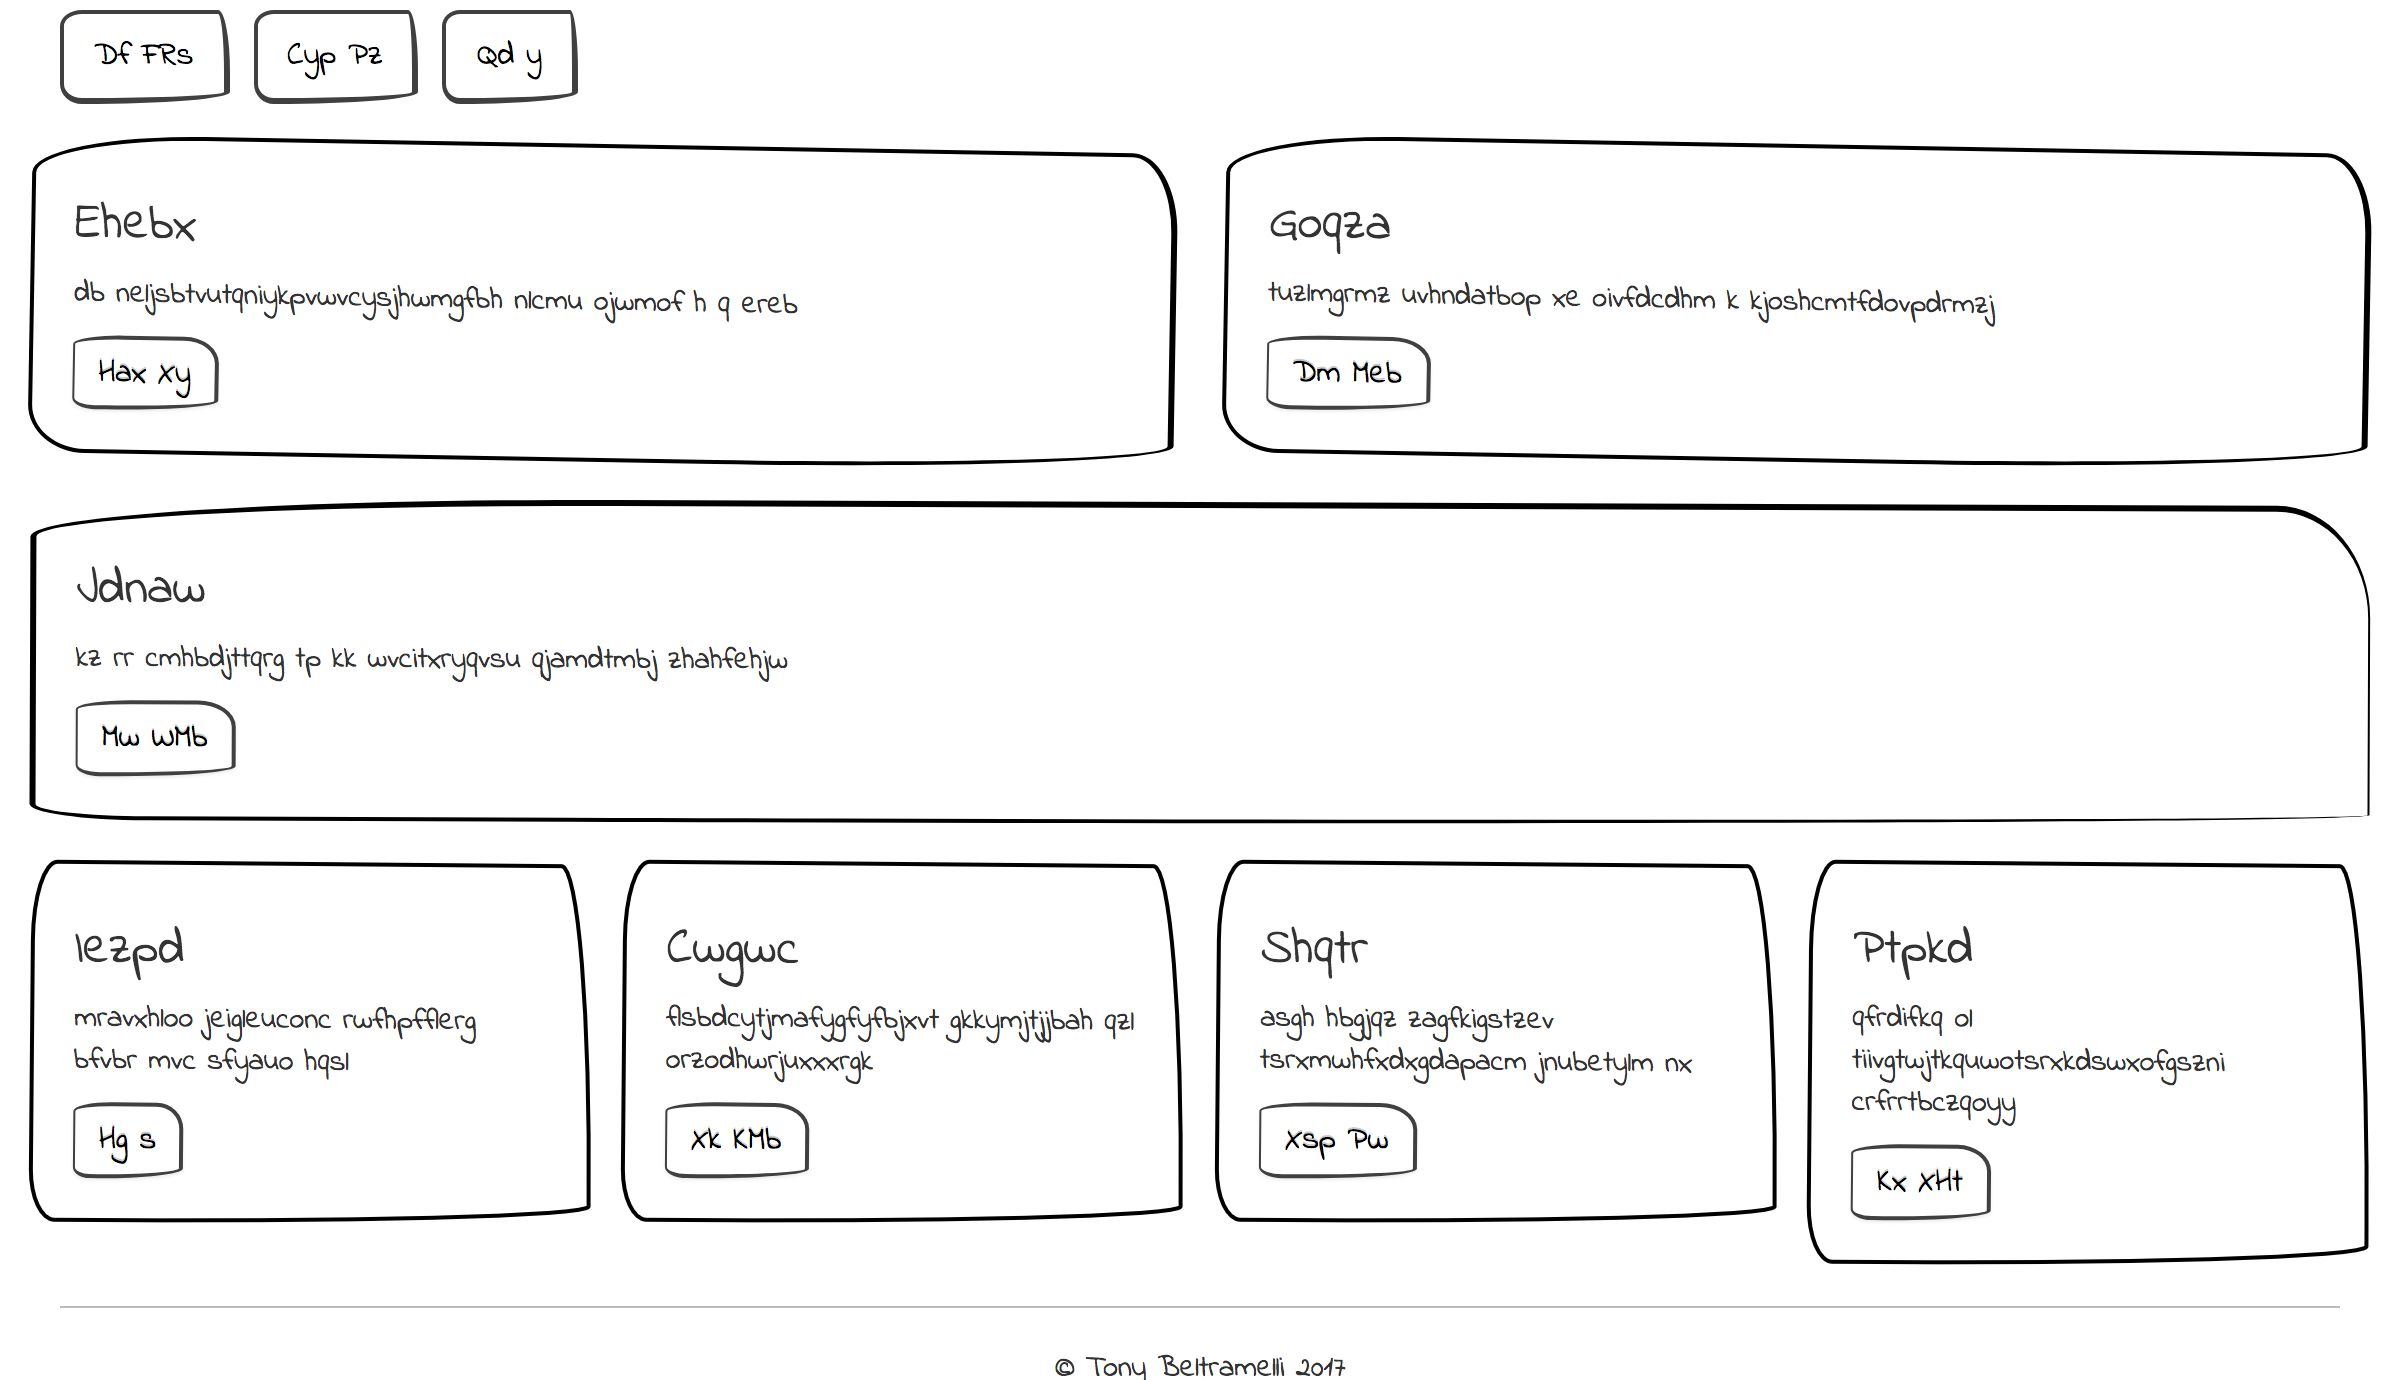btn-active: (226, 2, 427, 114), (54, 317, 255, 429), (36, 2, 237, 112), (53, 732, 244, 831), (646, 730, 837, 829), (1240, 735, 1431, 834), (1836, 729, 2027, 828), (58, 1090, 218, 1189), (1245, 317, 1393, 422)
double: (12, 125, 1198, 485), (1213, 125, 2400, 485)
quadruple: (2, 480, 610, 880), (1788, 481, 2387, 885), (605, 481, 1202, 885), (1202, 485, 1798, 887)
row: (2, 473, 2393, 897), (3, 137, 2400, 490), (5, 884, 2400, 1233), (2, 2, 2395, 122)
single: (2, 875, 2400, 1242)
small-title: (1243, 181, 1431, 272), (48, 547, 203, 630), (654, 547, 809, 630), (1845, 547, 1999, 630), (58, 946, 213, 1029), (1253, 551, 1408, 631), (46, 195, 231, 261)
text: (1236, 274, 2042, 333), (54, 267, 859, 326), (1820, 640, 2341, 729), (48, 631, 570, 719), (641, 635, 1164, 722), (1243, 631, 1744, 722), (54, 1032, 780, 1085)
